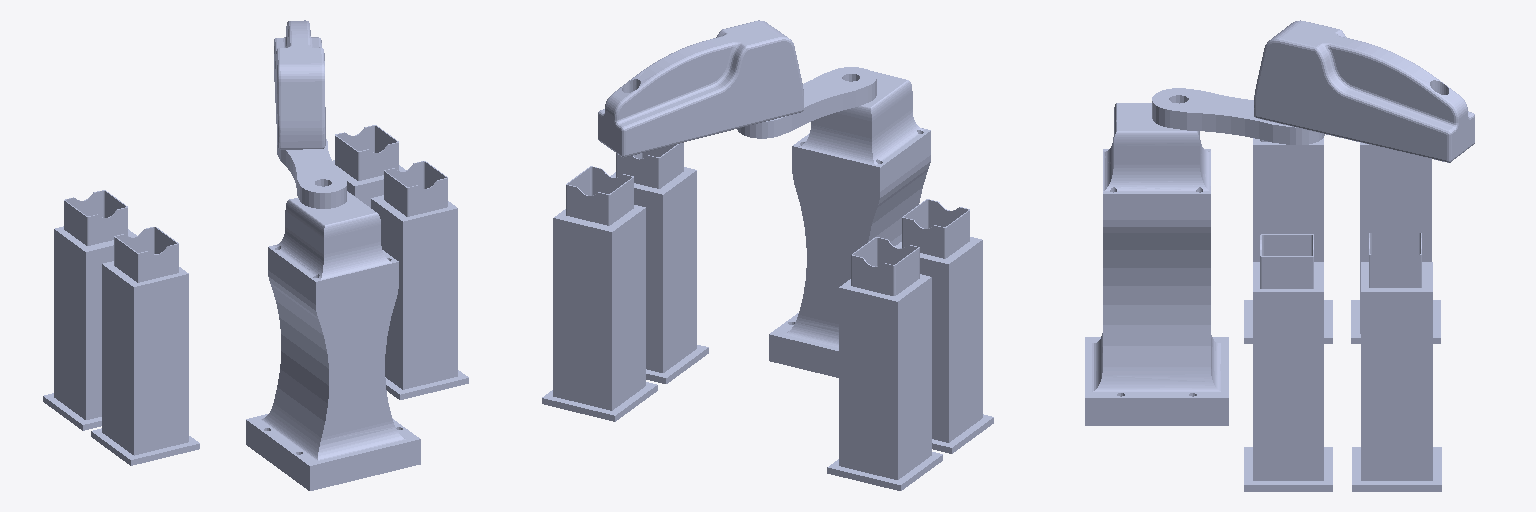
robot.urdf — scara_boxes:
<?xml version="1.0" encoding="utf-8"?>
<!-- This URDF was automatically created by SolidWorks to URDF Exporter! Originally created by [author] ([email redacted]) 
     Commit Version: 1.6.0-4-g7f85cfe  Build Version: 1.6.7995.38578
     For more information, please see http://wiki.ros.org/sw_urdf_exporter -->
<robot
  name="scara_boxes">
  <link
    name="world_link">
    <inertial>
      <origin
        xyz="-0.379999991843833 -0.241999995946268 0.282642145469613"
        rpy="0 0 0" />
      <mass
        value="56.5143635061382" />
      <inertia
        ixx="3.10383758638064"
        ixy="9.38103874984808E-07"
        ixz="-4.5700988000864E-07"
        iyy="3.00109559506483"
        iyz="3.8993102369279E-08"
        izz="0.915005919197952" />
    </inertial>
    <visual>
      <origin
        xyz="0 0 0"
        rpy="0 0 0" />
      <geometry>
        <mesh
          filename="package://scara_boxes/meshes/world_link.STL" />
      </geometry>
      <material
        name="">
        <color
          rgba="0.792156862745098 0.819607843137255 0.933333333333333 1" />
      </material>
    </visual>
    <collision>
      <origin
        xyz="0 0 0"
        rpy="0 0 0" />
      <geometry>
        <mesh
          filename="package://scara_boxes/meshes/world_link.STL" />
      </geometry>
    </collision>
  </link>
  <link
    name="scara_link_base">
    <inertial>
      <origin
        xyz="4.11981024295294E-09 -0.00144952651535979 0.0824742549468586"
        rpy="0 0 0" />
      <mass
        value="10.0938987184175" />
      <inertia
        ixx="0.0864487528577416"
        ixy="-7.67600083954998E-08"
        ixz="-3.54288604352874E-09"
        iyy="0.0762174394798054"
        iyz="0.000783155397267453"
        izz="0.100368960083761" />
    </inertial>
    <visual>
      <origin
        xyz="0 0 0"
        rpy="0 0 0" />
      <geometry>
        <mesh
          filename="package://scara_boxes/meshes/scara_link_base.STL" />
      </geometry>
      <material
        name="">
        <color
          rgba="0.792156862745098 0.819607843137255 0.933333333333333 1" />
      </material>
    </visual>
    <collision>
      <origin
        xyz="0 0 0"
        rpy="0 0 0" />
      <geometry>
        <mesh
          filename="package://scara_boxes/meshes/scara_link_base.STL" />
      </geometry>
    </collision>
  </link>
  <joint
    name="scara_joint_base"
    type="fixed">
    <origin
      xyz="-0.38 -0.242 0.650000000000001"
      rpy="0 0 0" />
    <parent
      link="world_link" />
    <child
      link="scara_link_base" />
    <axis
      xyz="0 0 0" />
  </joint>
  <link
    name="scara_link_1">
    <inertial>
      <origin
        xyz="0.0554575444614087 0.165564551542489 0.0275000000000013"
        rpy="0 0 0" />
      <mass
        value="3.3230838247481" />
      <inertia
        ixx="0.0576270026353464"
        ixy="-0.0171642772796708"
        ixz="-2.85240477777696E-18"
        iyy="0.0119905480517804"
        iyz="-7.7409692678262E-18"
        izz="0.0679421595859383" />
    </inertial>
    <visual>
      <origin
        xyz="0 0 0"
        rpy="0 0 0" />
      <geometry>
        <mesh
          filename="package://scara_boxes/meshes/scara_link_1.STL" />
      </geometry>
      <material
        name="">
        <color
          rgba="0.792156862745098 0.819607843137255 0.933333333333333 1" />
      </material>
    </visual>
    <collision>
      <origin
        xyz="0 0 0"
        rpy="0 0 0" />
      <geometry>
        <mesh
          filename="package://scara_boxes/meshes/scara_link_1.STL" />
      </geometry>
    </collision>
  </link>
  <joint
    name="scara_joint_1"
    type="revolute">
    <origin
      xyz="0 0.0620000000000001 0.185999999999999"
      rpy="0 0 0" />
    <parent
      link="scara_link_base" />
    <child
      link="scara_link_1" />
    <axis
      xyz="0 0 -1" />
    <limit
      lower="-3"
      upper="3"
      effort="0"
      velocity="0" />
  </joint>
  <link
    name="scara_link_2">
    <inertial>
      <origin
        xyz="0.0846237938758736 0.153636740232568 0.109919168493605"
        rpy="0 0 0" />
      <mass
        value="17.9237237949378" />
      <inertia
        ixx="0.486676041203974"
        ixy="-0.20205161891764"
        ixz="0.0238411475845364"
        iyy="0.231136918692326"
        iyz="0.043284241977989"
        izz="0.538887927908261" />
    </inertial>
    <visual>
      <origin
        xyz="0 0 0"
        rpy="0 0 0" />
      <geometry>
        <mesh
          filename="package://scara_boxes/meshes/scara_link_2.STL" />
      </geometry>
      <material
        name="">
        <color
          rgba="0.792156862745098 0.819607843137255 0.933333333333333 1" />
      </material>
    </visual>
    <collision>
      <origin
        xyz="0 0 0"
        rpy="0 0 0" />
      <geometry>
        <mesh
          filename="package://scara_boxes/meshes/scara_link_2.STL" />
      </geometry>
    </collision>
  </link>
  <joint
    name="scara_joint_2"
    type="revolute">
    <origin
      xyz="0.110915088922802 0.331544853874762 0.0550000000000013"
      rpy="0 0 0" />
    <parent
      link="scara_link_1" />
    <child
      link="scara_link_2" />
    <axis
      xyz="0 0 -1" />
    <limit
      lower="-3"
      upper="3"
      effort="0"
      velocity="0" />
  </joint>
  <link
    name="scara_link_3">
    <inertial>
      <origin
        xyz="-5.48198860028659E-07 3.08047934466371E-07 -0.191819389863616"
        rpy="0 0 0" />
      <mass
        value="1.09878914470562" />
      <inertia
        ixx="0.0202026345558292"
        ixy="1.46163302702154E-08"
        ixz="-2.9902926720251E-09"
        iyy="0.0202026586253473"
        iyz="5.4617905886984E-09"
        izz="0.000398979796591897" />
    </inertial>
    <visual>
      <origin
        xyz="0 0 0"
        rpy="0 0 0" />
      <geometry>
        <mesh
          filename="package://scara_boxes/meshes/scara_link_3.STL" />
      </geometry>
      <material
        name="">
        <color
          rgba="0.792156862745098 0.819607843137255 0.933333333333333 1" />
      </material>
    </visual>
    <collision>
      <origin
        xyz="0 0 0"
        rpy="0 0 0" />
      <geometry>
        <mesh
          filename="package://scara_boxes/meshes/scara_link_3.STL" />
      </geometry>
    </collision>
  </link>
  <joint
    name="scara_joint_3"
    type="prismatic">
    <origin
      xyz="0.217106821845308 0.394163199586465 0"
      rpy="3.14159265358979 0 -3.14159265358979" />
    <parent
      link="scara_link_2" />
    <child
      link="scara_link_3" />
    <axis
      xyz="0 0 -1" />
    <limit
      lower="-0.05"
      upper="0"
      effort="0"
      velocity="0" />
  </joint>
  <link
    name="boxes">
    <inertial>
      <origin
        xyz="0.360011118600684 0.27521364223783 0.278912194799361"
        rpy="0 0 0" />
      <mass
        value="99.0267308175771" />
      <inertia
        ixx="3.36896676113991"
        ixy="7.18898606721354E-11"
        ixz="-1.42061685292634E-06"
        iyy="3.36911900381237"
        iyz="-6.3075170410186E-09"
        izz="0.678298179608551" />
    </inertial>
    <visual>
      <origin
        xyz="0 0 0"
        rpy="0 0 0" />
      <geometry>
        <mesh
          filename="package://scara_boxes/meshes/boxes.STL" />
      </geometry>
      <material
        name="">
        <color
          rgba="0.792156862745098 0.819607843137255 0.933333333333333 1" />
      </material>
    </visual>
    <collision>
      <origin
        xyz="0 0 0"
        rpy="0 0 0" />
      <geometry>
        <mesh
          filename="package://scara_boxes/meshes/boxes.STL" />
      </geometry>
    </collision>
  </link>
  <joint
    name="boxes"
    type="fixed">
    <origin
      xyz="-0.719999999999999 0 0"
      rpy="0 0 0" />
    <parent
      link="world_link" />
    <child
      link="boxes" />
    <axis
      xyz="0 0 0" />
  </joint>
</robot>

--- Render facts (derived) ---
The picture shows the robot from 3 angles, left to right: view 1: azimuth 30°, elevation 25°; view 2: azimuth 150°, elevation 25°; view 3: azimuth 270°, elevation 25°; orthographic projection.
Robot: scara_boxes — 6 links, 5 joints (2 revolute, 1 prismatic, 2 fixed); root link world_link; default pose: all joints at 0.
Visible links, largest first — view 1: boxes, world_link, scara_link_base, scara_link_2, scara_link_1; view 2: boxes, scara_link_2, world_link, scara_link_base, scara_link_1; view 3: boxes, world_link, scara_link_2, scara_link_base, scara_link_1.
Link boxes in pixels (x1=…): boxes: x1=43, y1=125, x2=468, y2=465; world_link: x1=246, y1=253, x2=420, y2=490; scara_link_base: x1=268, y1=191, x2=398, y2=287; scara_link_2: x1=274, y1=20, x2=325, y2=149; scara_link_1: x1=277, y1=139, x2=346, y2=208; boxes: x1=542, y1=143, x2=993, y2=490; scara_link_2: x1=598, y1=20, x2=803, y2=157; world_link: x1=769, y1=137, x2=930, y2=377; scara_link_base: x1=792, y1=71, x2=930, y2=173; scara_link_1: x1=737, y1=67, x2=876, y2=138; boxes: x1=1244, y1=138, x2=1441, y2=491; world_link: x1=1085, y1=201, x2=1228, y2=425; scara_link_2: x1=1254, y1=20, x2=1474, y2=162; scara_link_base: x1=1103, y1=103, x2=1210, y2=200; scara_link_1: x1=1152, y1=88, x2=1324, y2=144.
Size in the robot's own frame: 1.22 by 1.09 by 1.17 metres.
5 mesh visuals loaded from 6 distinct referenced files (5 binary STL); not drawn: 1 (reference not matched to a file when rendering).